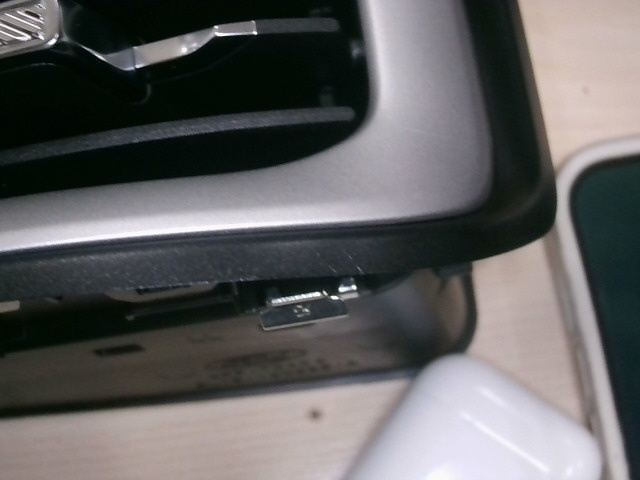NG: (320, 247, 376, 284), (401, 119, 458, 148)
